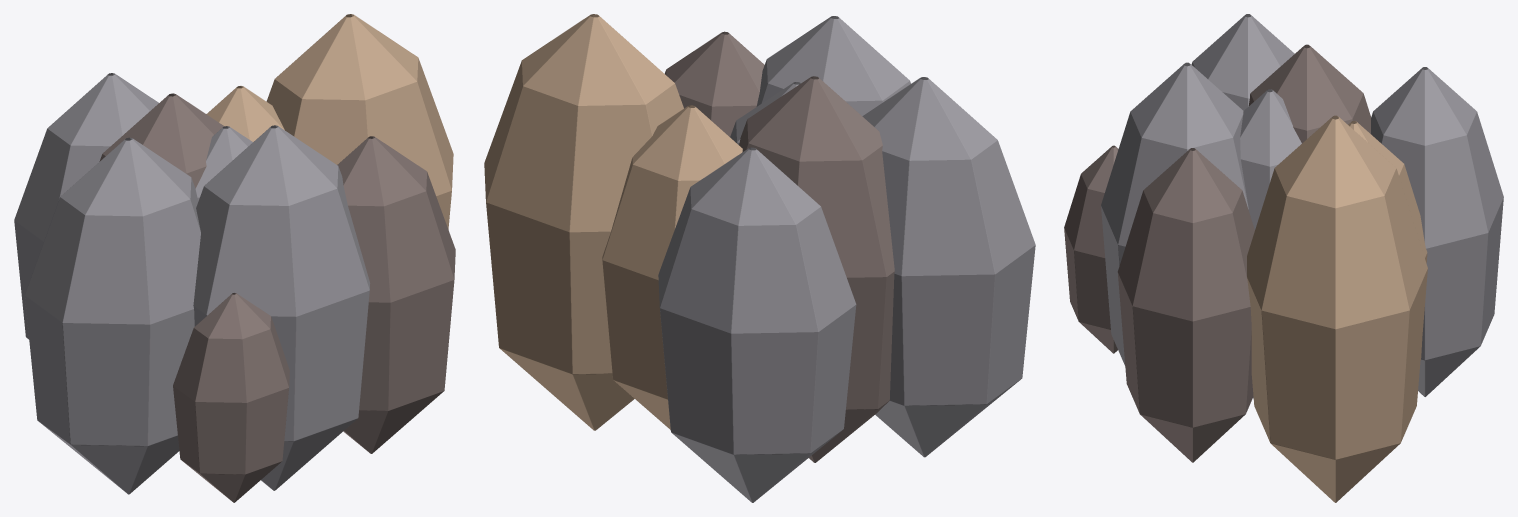
Rendered from ashwick-rocky-cliff.meshopt.glb.
3 views of the same model, side by side, from view 1: azimuth 30°, elevation 25°; view 2: azimuth 150°, elevation 25°; view 3: azimuth 270°, elevation 25° (orthographic). The views are drawn at different scales.
Visible parts, largest first — view 1: Weathered rock.003, Weathered rock.004, Weathered rock.005; view 2: Weathered rock.003, Weathered rock.005, Weathered rock.004; view 3: Weathered rock.005, Weathered rock.003, Weathered rock.004.
Part boxes in pixels (x1=…): Weathered rock.003: x1=14, y1=73, x2=370, y2=494; Weathered rock.004: x1=99, y1=93, x2=455, y2=502; Weathered rock.005: x1=206, y1=14, x2=453, y2=229; Weathered rock.003: x1=658, y1=16, x2=1035, y2=502; Weathered rock.005: x1=484, y1=14, x2=742, y2=430; Weathered rock.004: x1=664, y1=31, x2=894, y2=462; Weathered rock.005: x1=1247, y1=115, x2=1427, y2=502; Weathered rock.003: x1=1101, y1=14, x2=1503, y2=398; Weathered rock.004: x1=1064, y1=44, x2=1370, y2=462.
Bounding box in the file's own units: 5.07 × 4.15 × 4.3.
